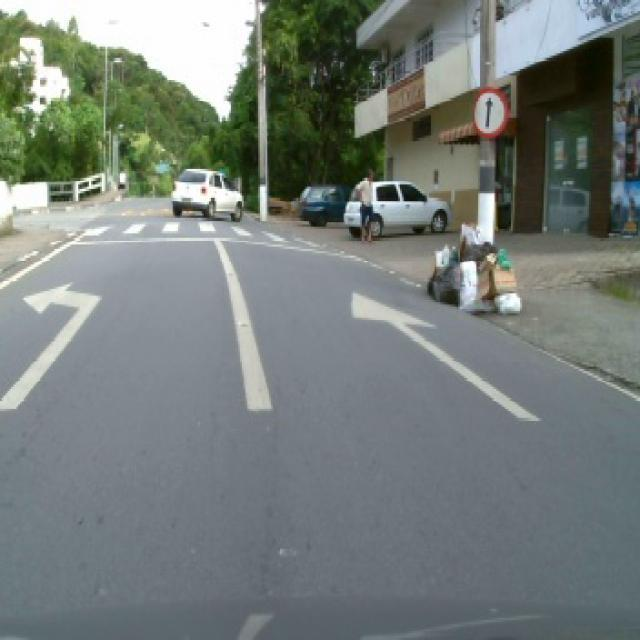Poth-hole: (234, 318, 250, 324)
